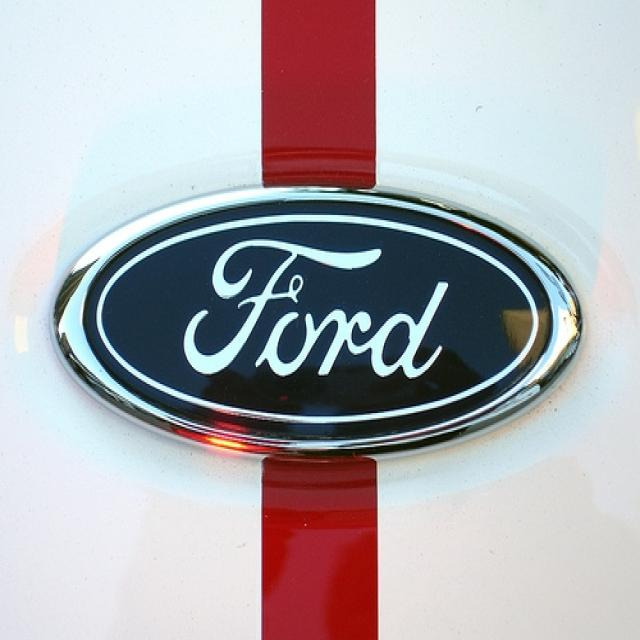ford: (50, 173, 591, 469)
